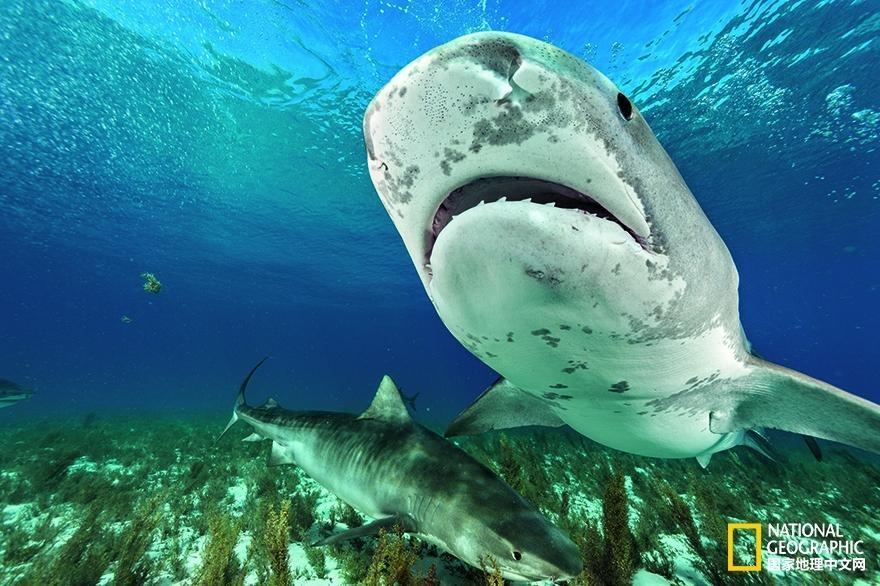fish: (347, 28, 880, 471), (214, 350, 588, 580)
